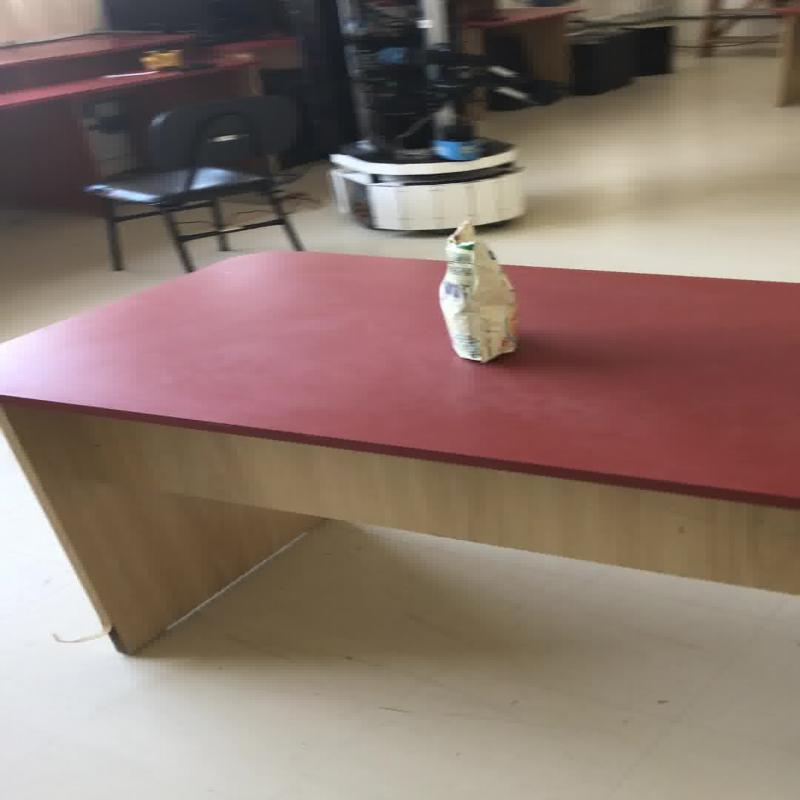corn flakes: (436, 218, 518, 362)
